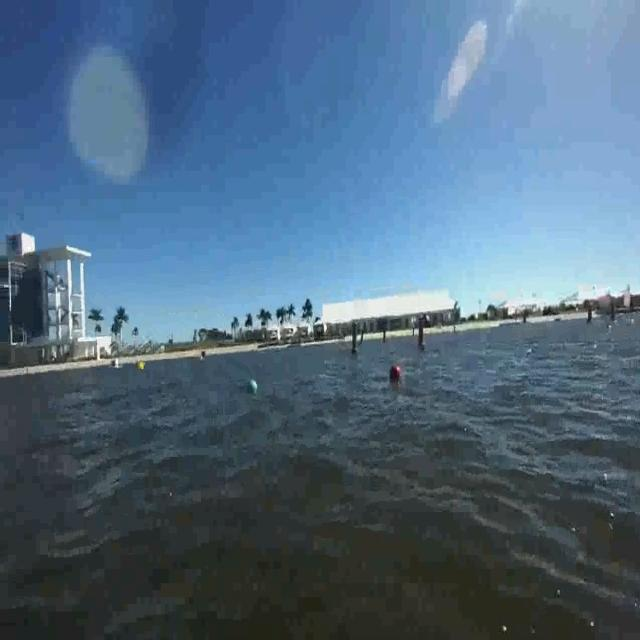green-buoy: (249, 380, 256, 392)
red-buoy: (390, 366, 400, 377)
yellow-buoy: (138, 359, 146, 372)
